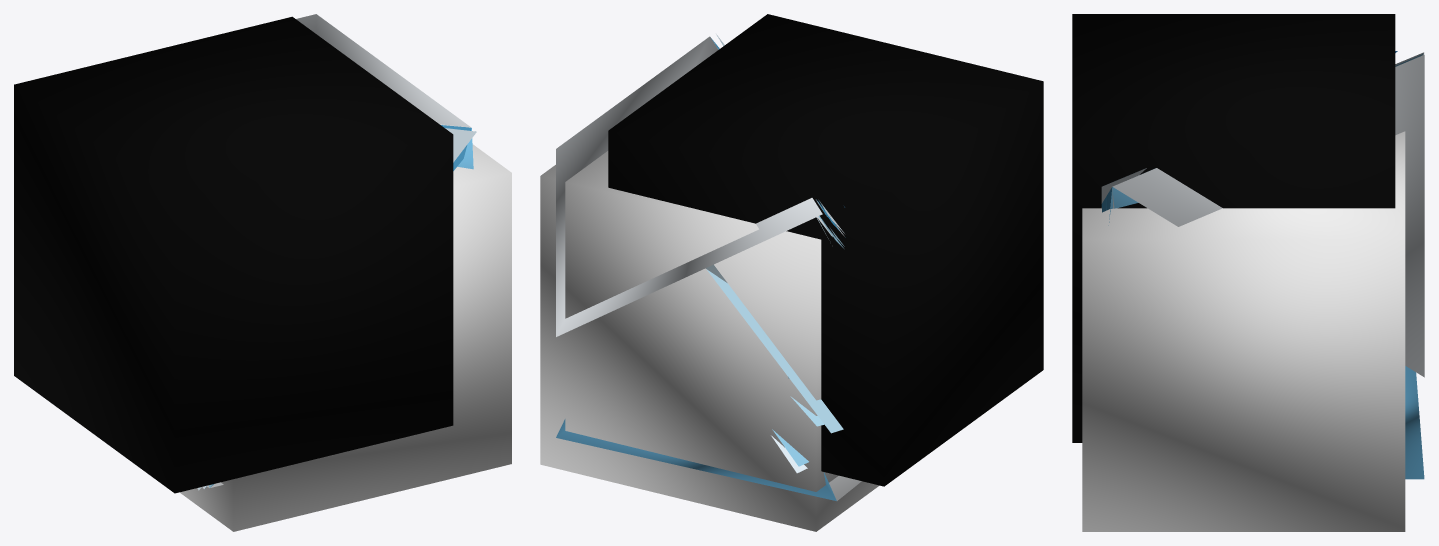
The picture shows the model from 3 angles, left to right: view 1: azimuth 30°, elevation 25°; view 2: azimuth 150°, elevation 25°; view 3: azimuth 270°, elevation 25°; orthographic projection.
Parts seen in each view (by area): view 1: Renderer Node; view 2: Renderer Node; view 3: Renderer Node.
Boxes of the visible parts, x1,y1,x2,y2 form: Renderer Node: (14,14,511,531); Renderer Node: (540,14,1043,531); Renderer Node: (1072,14,1424,531).
Bounding box in the file's own units: 1.22 × 1.19 × 1.09.
